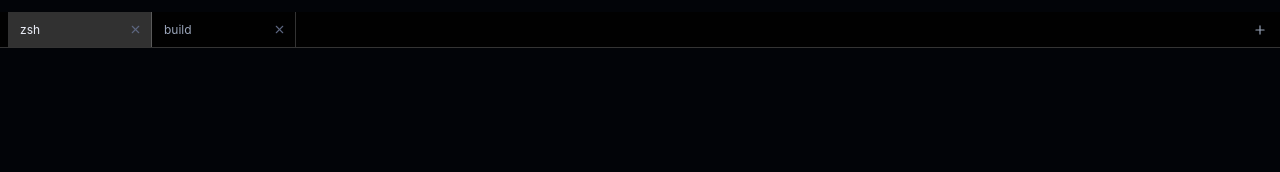
Test: TabBar › does not offer a closed project as a move destination
This screenshot has width=1280, height=172.
the tab's right-click menu lists destinations.
Right-click the button "zsh" at (66, 30), box [8,12,123,47]
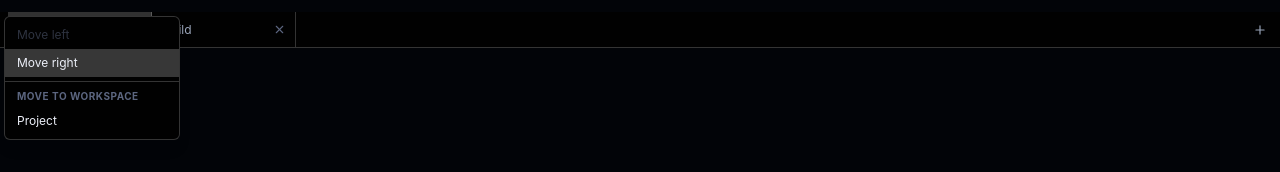
Result: the menu item "Project" is shown at [5,107,179,135]
